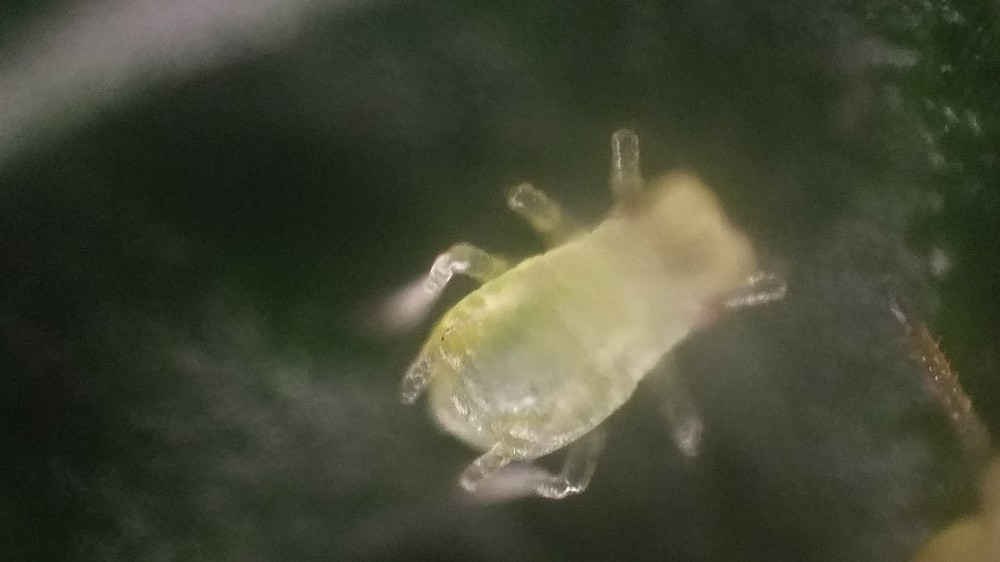Pulgon: (344, 111, 823, 526)
